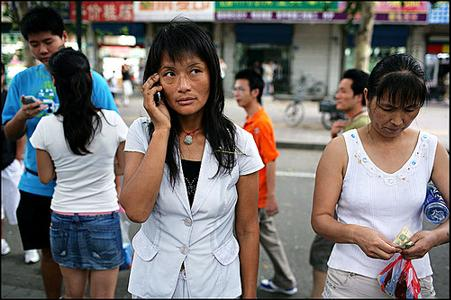person: (117, 23, 261, 296)
